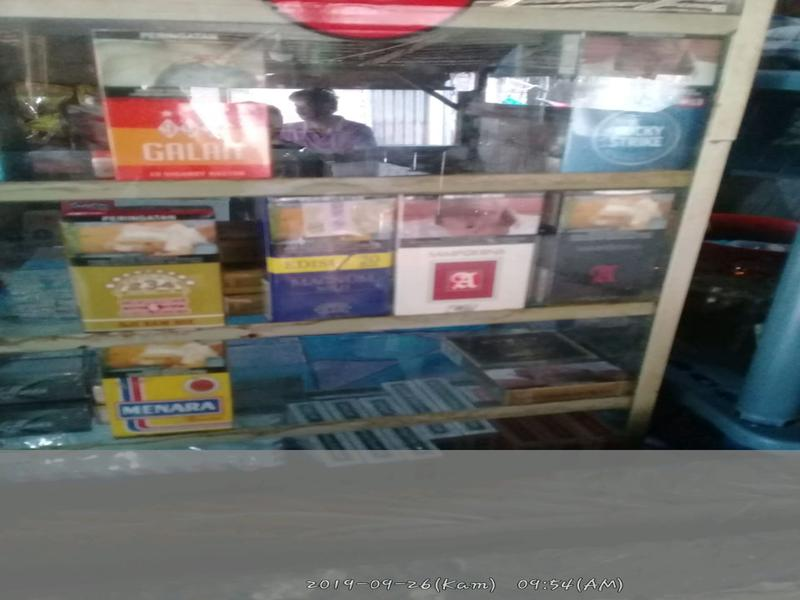A Mild: (398, 248, 527, 312)
